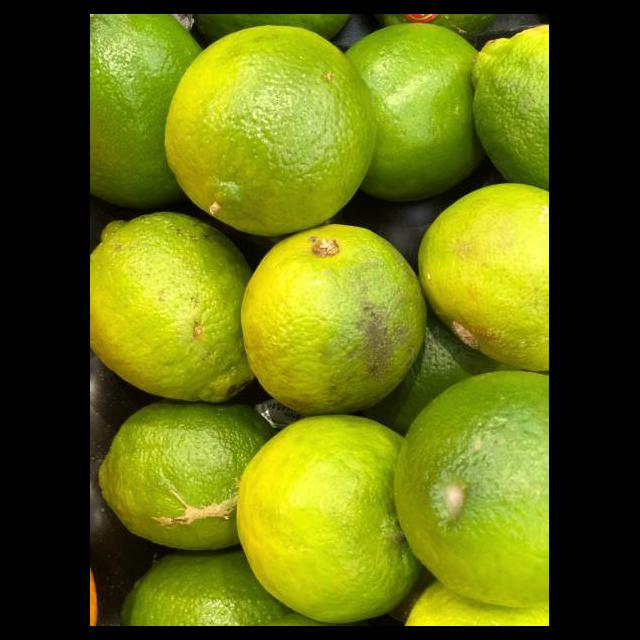lime: (164, 25, 378, 238), (240, 225, 428, 419), (98, 401, 284, 556)
